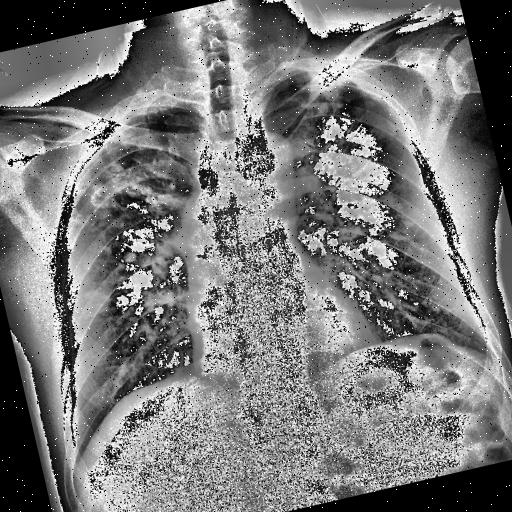0- Aortic enlargement: (230, 128, 300, 194)
11- Pleural thickening: (263, 60, 360, 114), (306, 54, 384, 114), (106, 87, 205, 130), (106, 90, 198, 126), (106, 100, 176, 130)
13- Pulmonary fibrosis: (272, 59, 424, 253), (53, 118, 211, 278), (73, 104, 218, 270), (272, 68, 406, 196), (80, 151, 186, 271), (294, 74, 371, 156)
6- Infiltration: (80, 151, 186, 271)
